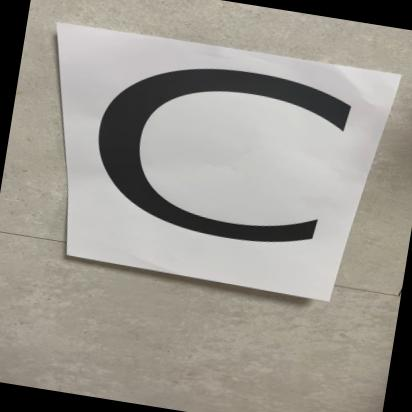seat: (30, 26, 367, 293)
